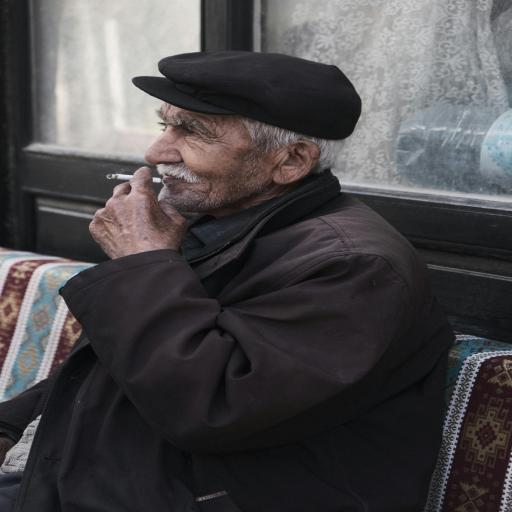terdeteksi merokok: (91, 119, 209, 228)
